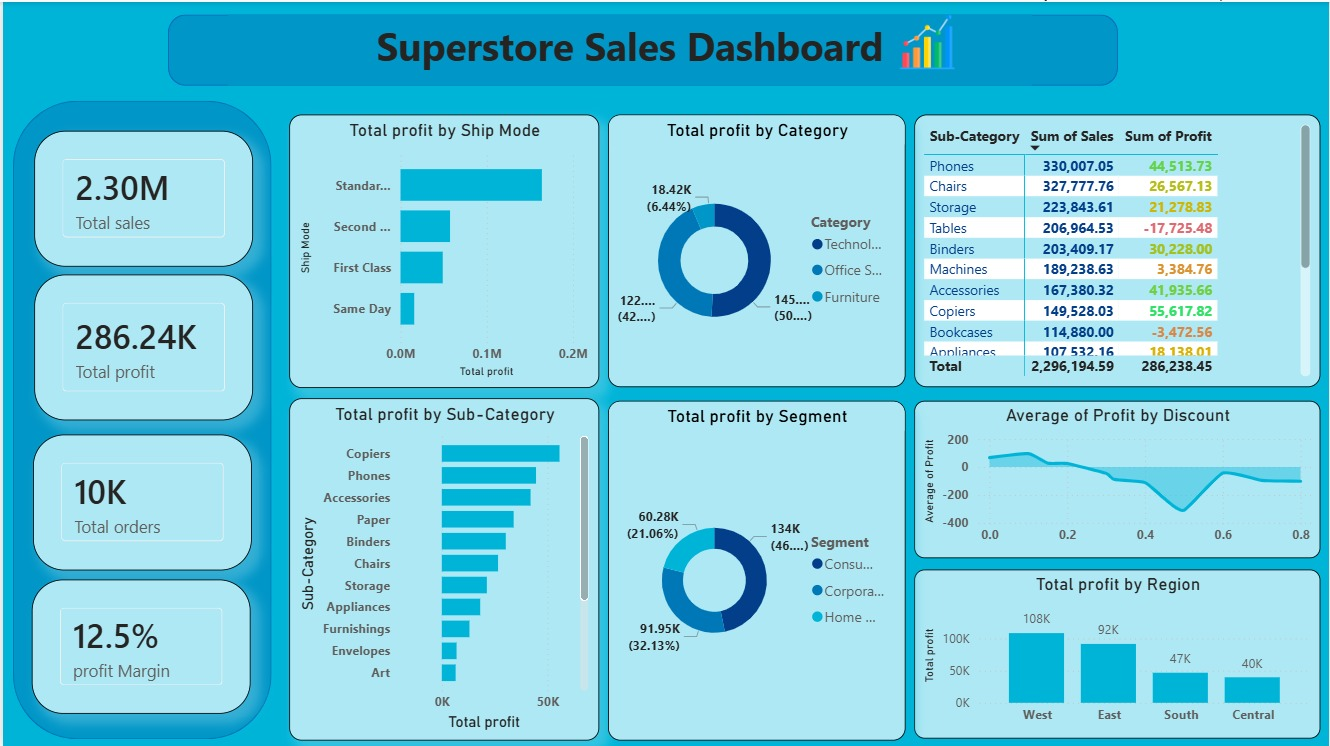

Layout of this report page (visuals, bound fields, positions):
{"tool":"powerbi","page":{"name":"Dashboard","canvas":[1280,720],"ordinal":0},"visuals":[{"type":"pivotTable","fields":{"Rows":["SampleSuperstore1.Sub-Category"],"Values":["Sum(SampleSuperstore1.Sales)","Sum(SampleSuperstore1.Profit)"]},"box":[879.3,108.5,392.3,263],"z":0},{"type":"lineChart","fields":{"Y":["Avg(SampleSuperstore1.Profit)"],"Category":["SampleSuperstore1.Discount"]},"box":[879.5,384.9,392.1,152],"z":1000},{"type":"shape","box":[159.3,12.1,916.9,68.8],"z":2000},{"type":"textbox","box":[217.2,12.1,775.7,68.8],"z":3000},{"type":"shape","box":[9.8,95.4,249.5,616.3],"z":4000},{"type":"cardVisual","fields":{"Data":["SampleSuperstore1.Total sales"]},"box":[30.6,124.7,211.6,130.8],"z":5000},{"type":"cardVisual","fields":{"Data":["SampleSuperstore1.Total profit"]},"box":[30.6,262.9,211.6,140.6],"z":6000},{"type":"cardVisual","fields":{"Data":["SampleSuperstore1.Total orders"]},"box":[29.3,417,211.6,130.8],"z":7000},{"type":"columnChart","fields":{"Category":["SampleSuperstore1.Region"],"Y":["SampleSuperstore1.Total profit"]},"box":[879.5,547.7,392.1,162.9],"z":8000},{"type":"barChart","fields":{"Category":["SampleSuperstore1.Ship Mode"],"Y":["SampleSuperstore1.Total profit"]},"box":[276.3,108.6,299.2,264.2],"z":9000},{"type":"donutChart","fields":{"Category":["SampleSuperstore1.Category"],"Y":["SampleSuperstore1.Total profit"]},"box":[583.9,108.6,287.1,263],"z":10000},{"type":"barChart","fields":{"Category":["SampleSuperstore1.Sub-Category"],"Y":["SampleSuperstore1.Total profit"]},"box":[276.3,382.4,299.2,330.6],"z":11000},{"type":"donutChart","fields":{"Category":["SampleSuperstore1.Segment"],"Y":["SampleSuperstore1.Total profit"]},"box":[583.9,384.9,287.1,328.2],"z":12000},{"type":"cardVisual","fields":{"Data":["SampleSuperstore1.profit Margin"]},"box":[28.1,557.6,211.6,129.6],"z":13000},{"type":"image","box":[851.7,12.1,80.8,53.1],"z":14000}]}

Visuals, with their boxes in screenshot pixels (x1, y1, x2, y2), scaled from the page's 1280x720 canvas onto the 1330x746 screenshot:
pivotTable - SampleSuperstore1.Sub-Category x Sum(SampleSuperstore1.Sales): bbox(914, 112, 1321, 385)
lineChart - Avg(SampleSuperstore1.Profit) x SampleSuperstore1.Discount: bbox(914, 399, 1321, 556)
shape: bbox(166, 13, 1118, 84)
textbox: bbox(226, 13, 1032, 84)
shape: bbox(10, 99, 269, 737)
cardVisual - SampleSuperstore1.Total sales: bbox(32, 129, 252, 265)
cardVisual - SampleSuperstore1.Total profit: bbox(32, 272, 252, 418)
cardVisual - SampleSuperstore1.Total orders: bbox(30, 432, 250, 568)
columnChart - SampleSuperstore1.Region x SampleSuperstore1.Total profit: bbox(914, 567, 1321, 736)
barChart - SampleSuperstore1.Ship Mode x SampleSuperstore1.Total profit: bbox(287, 113, 598, 386)
donutChart - SampleSuperstore1.Category x SampleSuperstore1.Total profit: bbox(607, 113, 905, 385)
barChart - SampleSuperstore1.Sub-Category x SampleSuperstore1.Total profit: bbox(287, 396, 598, 739)
donutChart - SampleSuperstore1.Segment x SampleSuperstore1.Total profit: bbox(607, 399, 905, 739)
cardVisual - SampleSuperstore1.profit Margin: bbox(29, 578, 249, 712)
image: bbox(885, 13, 969, 68)
